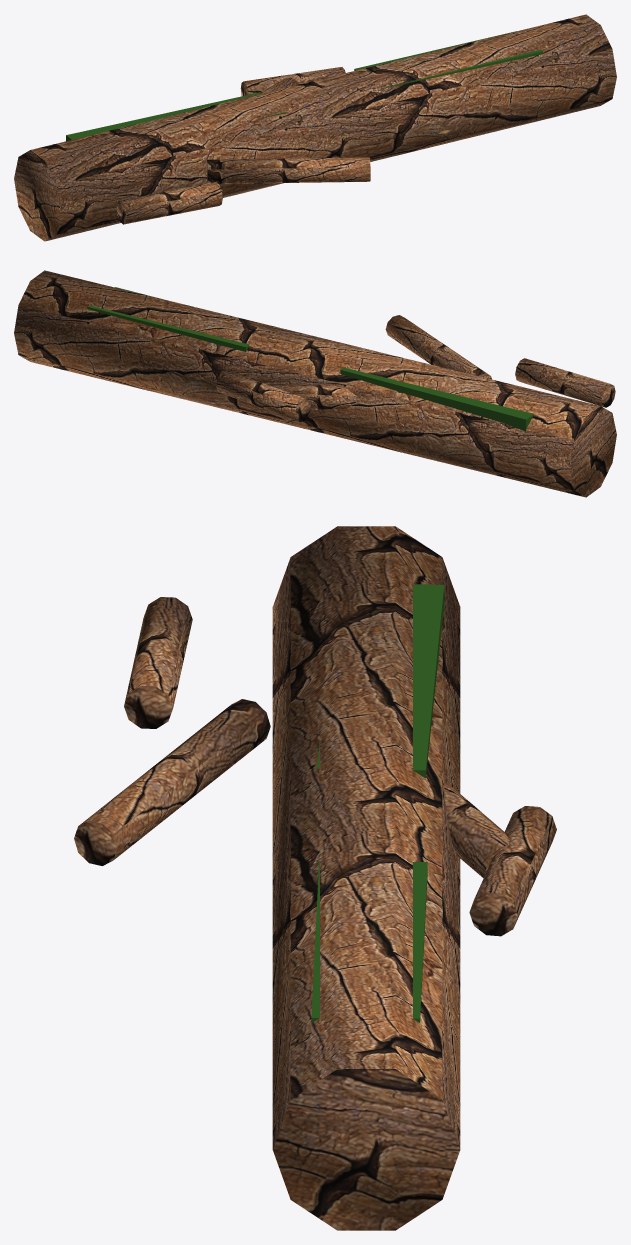
File: prop_deadfall_log.glb
The picture shows the model from 3 angles, top to bottom: view 1: azimuth 30°, elevation 25°; view 2: azimuth 150°, elevation 25°; view 3: azimuth 270°, elevation 25°; orthographic projection. The views are drawn at different scales.
Parts seen in each view (by area): view 1: deadfall_log, stub_0, stub_2, stub_1, moss_1, moss_0; view 2: deadfall_log, moss_1, stub_2, stub_1, stub_0, stub_3, moss_0; view 3: deadfall_log, stub_0, stub_2, stub_1, moss_1, stub_3, moss_0.
Boxes of the visible parts, <box> form: deadfall_log: <box>14,14,616,241</box>; stub_0: <box>206,157,370,183</box>; stub_2: <box>116,182,222,224</box>; stub_1: <box>240,67,345,96</box>; moss_1: <box>66,92,286,141</box>; moss_0: <box>354,31,542,88</box>; deadfall_log: <box>14,270,616,497</box>; moss_1: <box>340,367,533,431</box>; stub_2: <box>515,358,615,407</box>; stub_1: <box>216,369,310,421</box>; stub_0: <box>385,315,491,379</box>; stub_3: <box>269,383,356,409</box>; moss_0: <box>87,287,249,351</box>; deadfall_log: <box>272,526,460,1230</box>; stub_0: <box>74,699,270,865</box>; stub_2: <box>124,597,192,728</box>; stub_1: <box>469,806,556,936</box>; moss_1: <box>317,584,444,778</box>; stub_3: <box>444,783,509,877</box>; moss_0: <box>311,861,427,1023</box>.
Size of the model in its own units: 2.6 by 0.3614 by 0.9779.
5 materials, 1 textured.
